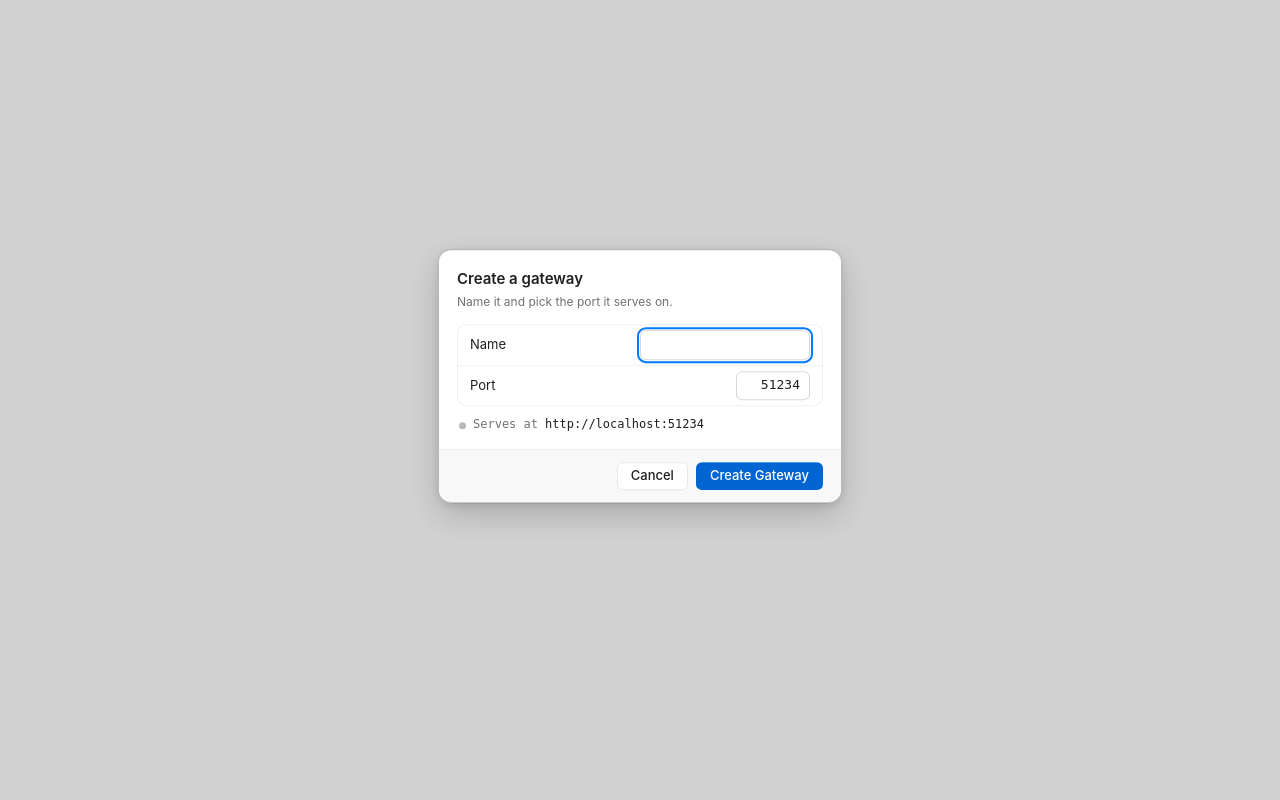
Test: the preview follows the port field on every keystroke
The image size is (1280, 800).
Expected: the dialog "Create a gateway" is shown, left=438, top=249, right=842, bottom=503
Step 1. Replace the text in the field labelled "Port" with "9000" → point(773, 386), box left=736, top=371, right=810, bottom=400
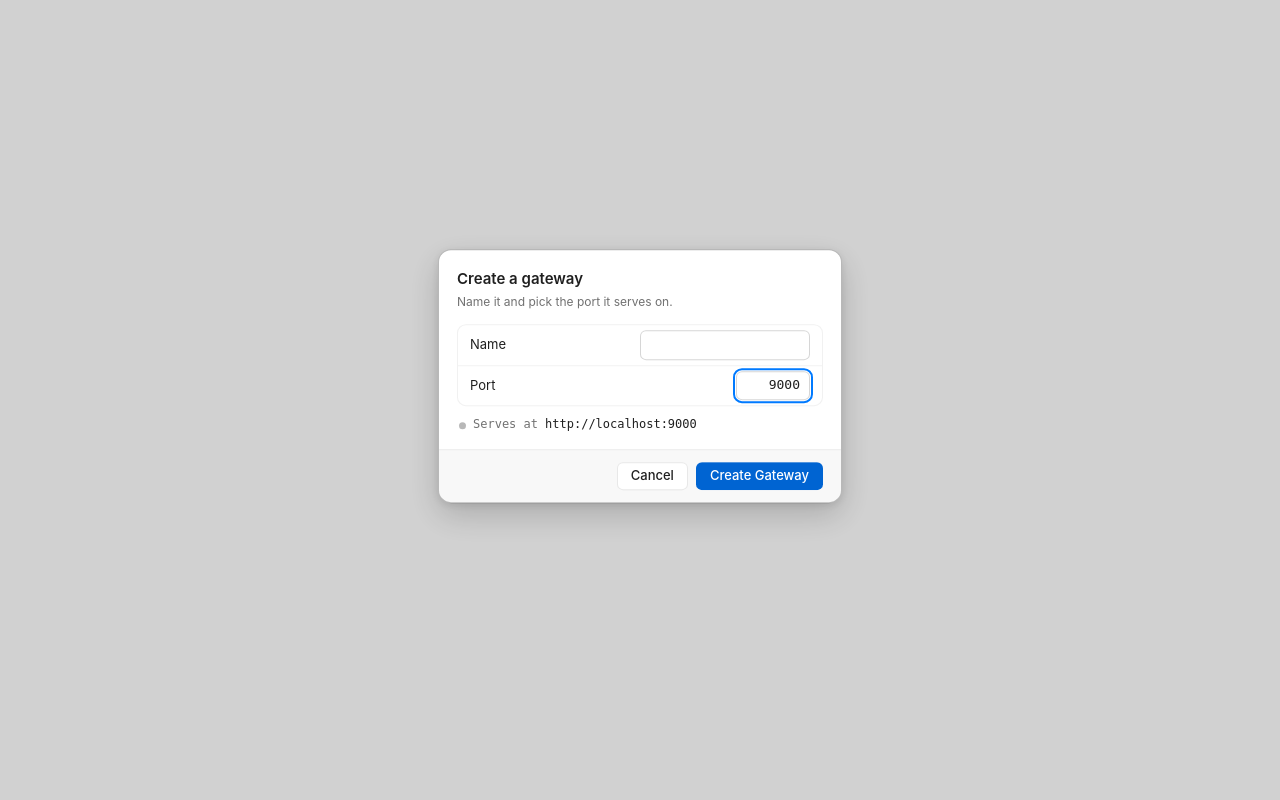
Expected: the dialog "Create a gateway" shows "http://localhost:9000", left=545, top=418, right=697, bottom=432
